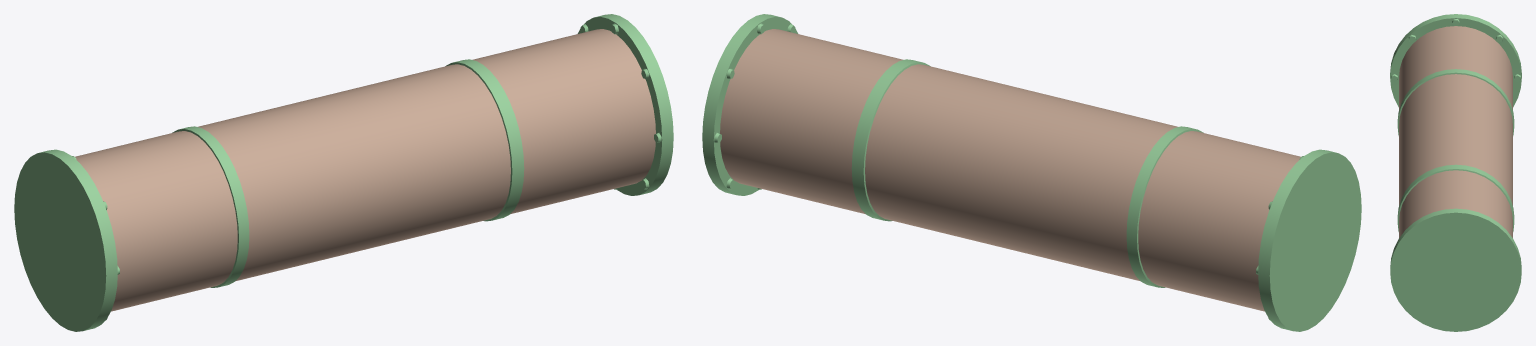
File: Pipe_01b_snaps020.FBX
3 renders of one model, left to right at view 1: azimuth 30°, elevation 25°; view 2: azimuth 150°, elevation 25°; view 3: azimuth 270°, elevation 25°, orthographic. The views are drawn at different scales.
Parts seen in each view (by area): view 1: Pipe_01b_snaps020_LOD0; view 2: Pipe_01b_snaps020_LOD0; view 3: Pipe_01b_snaps020_LOD0.
Part boxes in pixels (left/top/right/bottom): Pipe_01b_snaps020_LOD0: left=14, top=14, right=673, bottom=331; Pipe_01b_snaps020_LOD0: left=702, top=14, right=1361, bottom=331; Pipe_01b_snaps020_LOD0: left=1390, top=14, right=1521, bottom=331.
Size of what is drawn, in the model's own units: 2 by 0.5615 by 0.5615.
